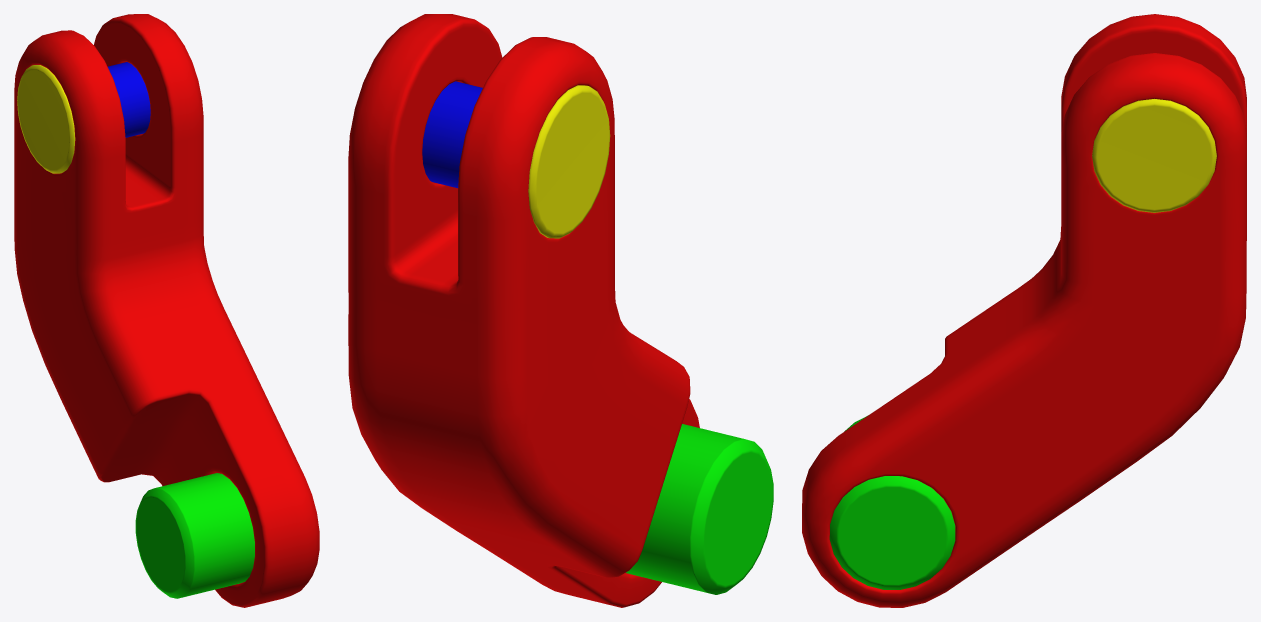
The model's file is jro_connection_040.fbx.
3 views of the same model, side by side, from view 1: azimuth 30°, elevation 25°; view 2: azimuth 150°, elevation 25°; view 3: azimuth 270°, elevation 25° (orthographic). The views are drawn at different scales.
Parts seen in each view (by area): view 1: main_mesh, cylinder_002_mesh, holder_mesh, cylinder_001_mesh; view 2: main_mesh, cylinder_002_mesh, holder_mesh, cylinder_001_mesh; view 3: main_mesh, cylinder_002_mesh, holder_mesh.
Part boxes in pixels (x1,y1,x2,y2): main_mesh: (14, 14, 319, 607); cylinder_002_mesh: (135, 473, 254, 598); holder_mesh: (17, 65, 75, 173); cylinder_001_mesh: (108, 62, 150, 137); main_mesh: (348, 14, 699, 607); cylinder_002_mesh: (626, 424, 773, 594); holder_mesh: (528, 85, 610, 238); cylinder_001_mesh: (422, 81, 482, 188); main_mesh: (802, 14, 1246, 607); cylinder_002_mesh: (829, 415, 955, 589); holder_mesh: (1092, 99, 1216, 212).
Bounding box in the file's own units: 18.79 × 67.53 × 50.09.
